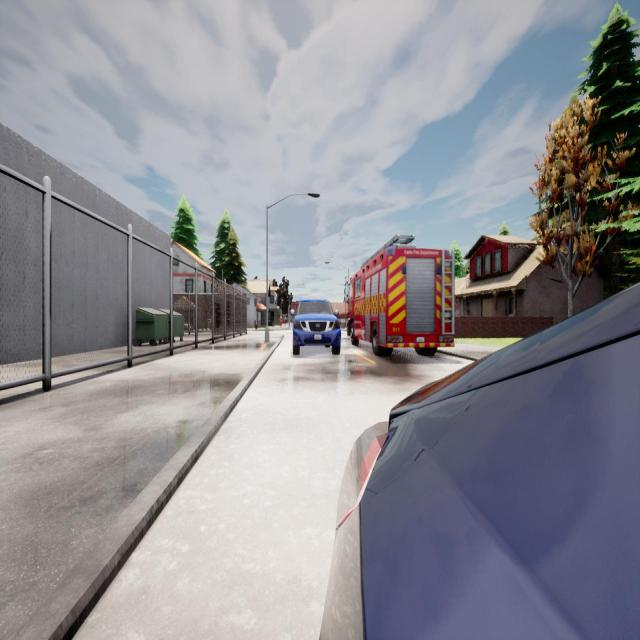Pedestrian: (280, 314, 282, 327), (284, 315, 286, 326)
Vehicle: (324, 290, 640, 640), (346, 236, 454, 356), (292, 299, 342, 357)
